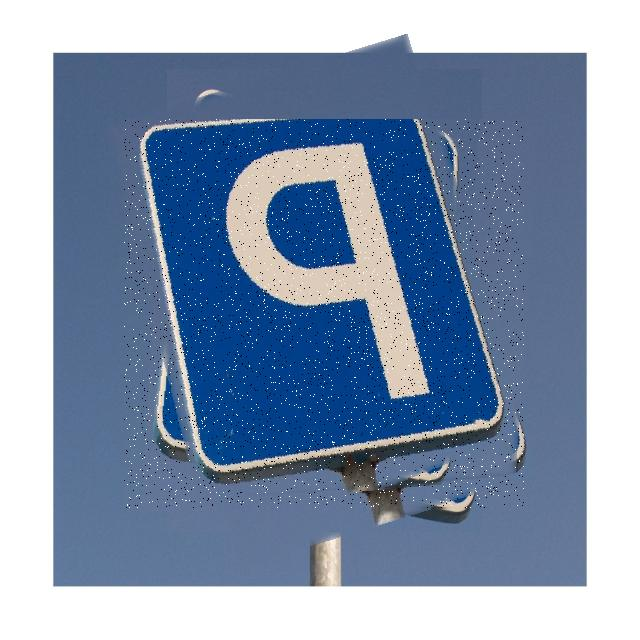parking: (124, 120, 524, 508)
